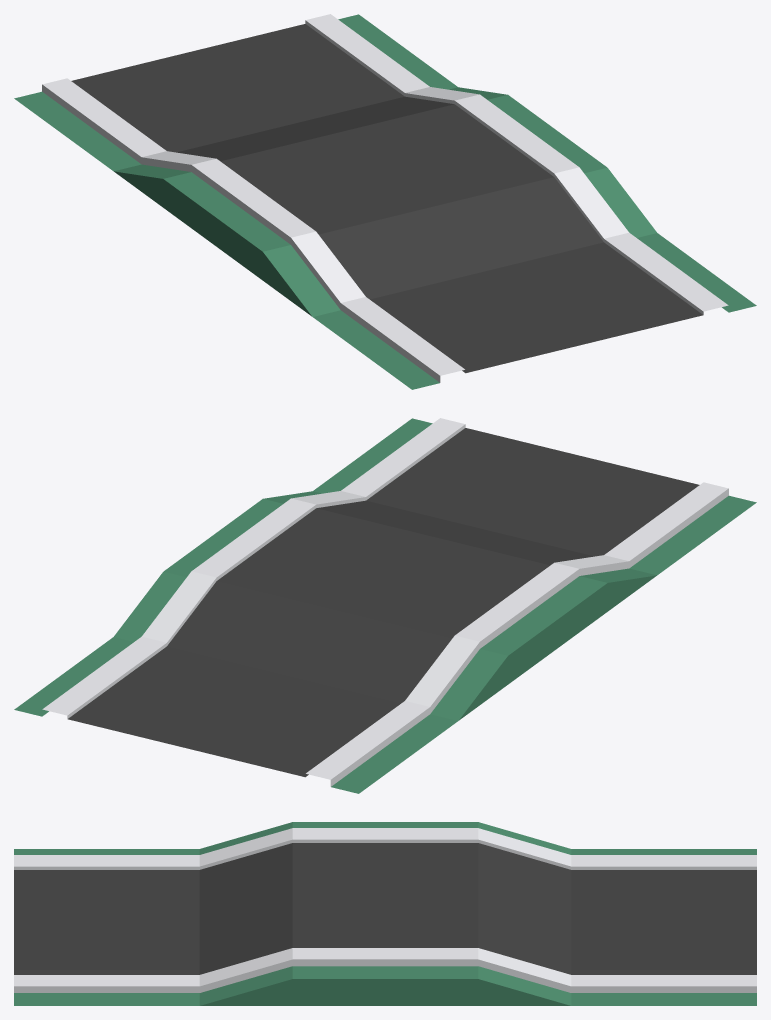
The model's file is roadBump.glb.
3 renders of one model, top to bottom at view 1: azimuth 30°, elevation 25°; view 2: azimuth 150°, elevation 25°; view 3: azimuth 270°, elevation 25°, orthographic. The views are drawn at different scales.
Visible parts, largest first — view 1: roadBump(Clone); view 2: roadBump(Clone); view 3: roadBump(Clone).
Boxes of the visible parts, x1,y1,x2,y2 form: roadBump(Clone): (14, 14, 756, 389); roadBump(Clone): (14, 418, 756, 793); roadBump(Clone): (14, 822, 756, 1005).
Size of the model in its own units: 1 by 0.1 by 2.
